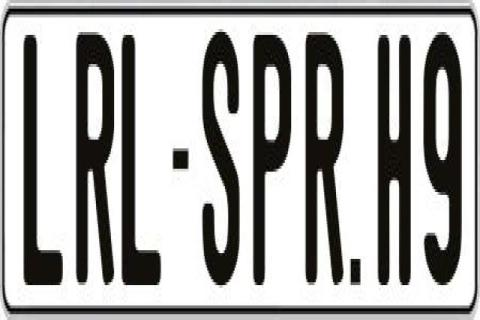0: (420, 23, 464, 285)
H: (378, 35, 413, 291)
L: (24, 29, 68, 288), (119, 29, 162, 288)
P: (254, 29, 296, 279)
R: (75, 27, 118, 286), (306, 23, 344, 280)
S: (200, 26, 240, 291)
